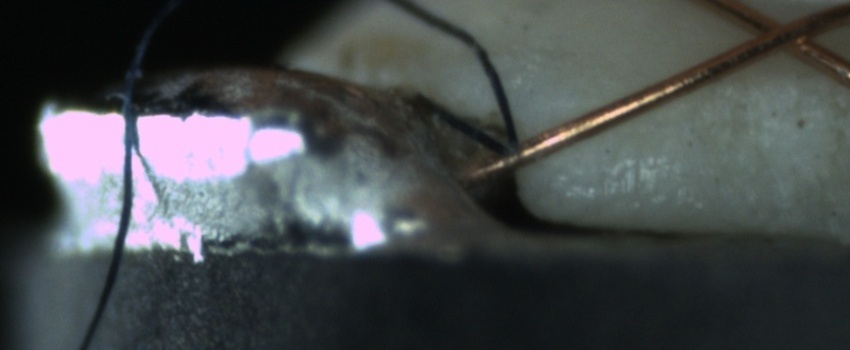CL: (737, 2, 838, 62)
